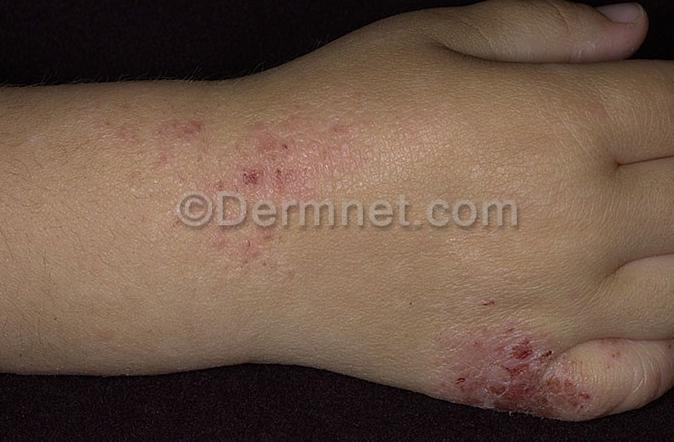edema 2: (0, 36, 282, 442)
edema 3: (438, 0, 674, 439)
excoriacion 2: (141, 97, 351, 230), (446, 321, 529, 391)
exudacion 3: (434, 312, 637, 431)
